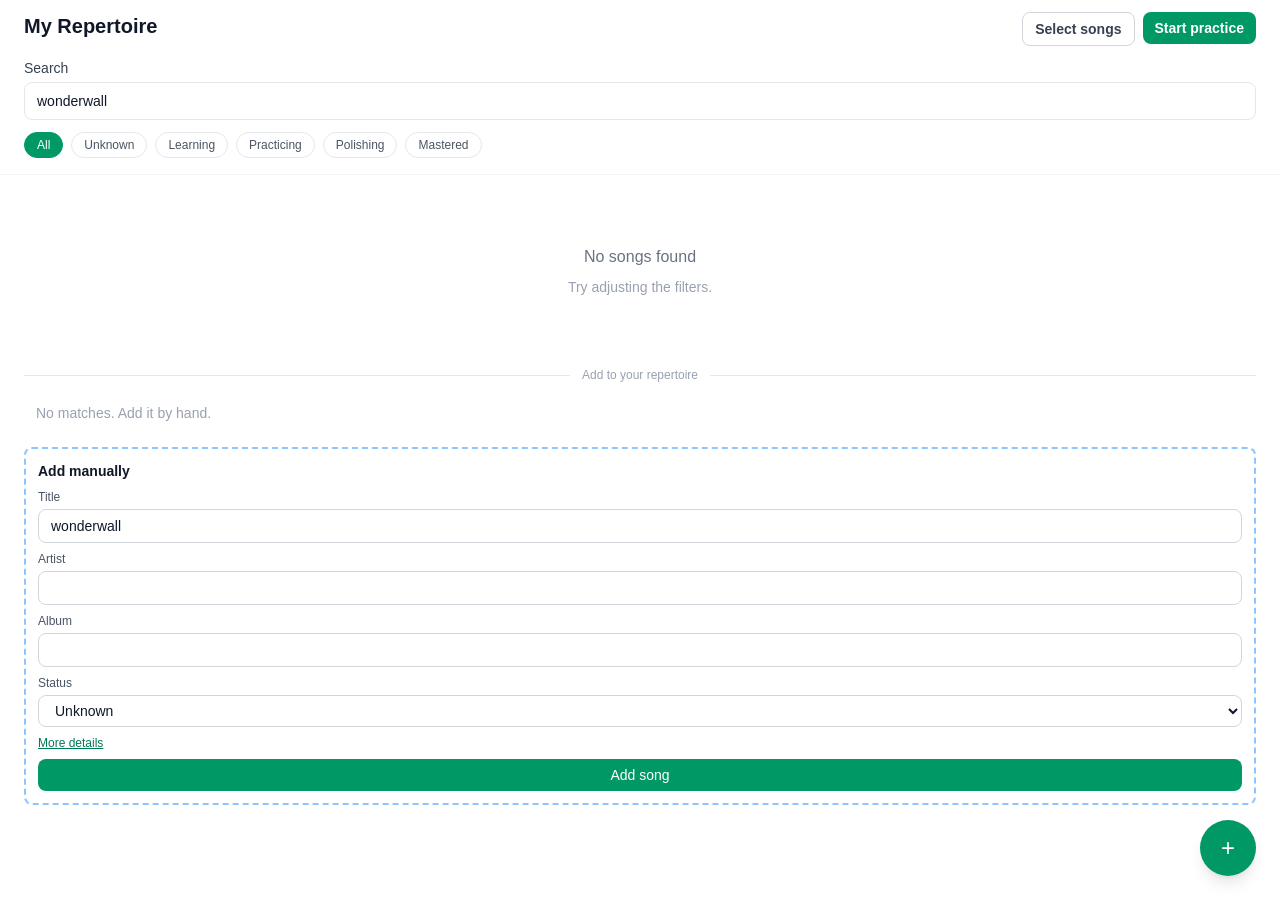
Scenario: manual entry panel (RH-152) › shows a failed add inline once
The width and height of the screenshot is (1280, 900).
Type "Oasis" into the field labelled "Artist" at (640, 588), box [38,571,1242,605]
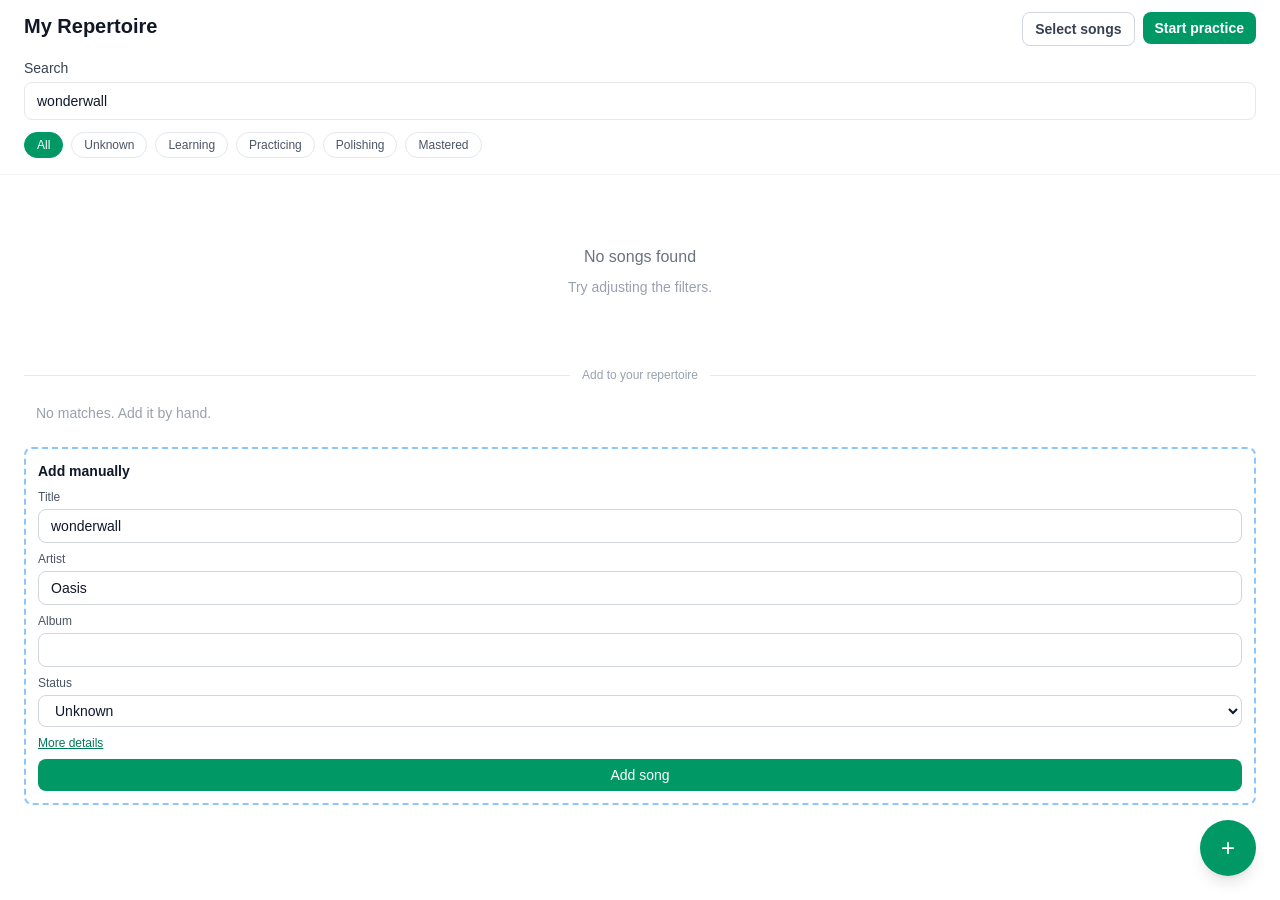
Click the button "Add song" at (640, 775), box [38,759,1242,791]
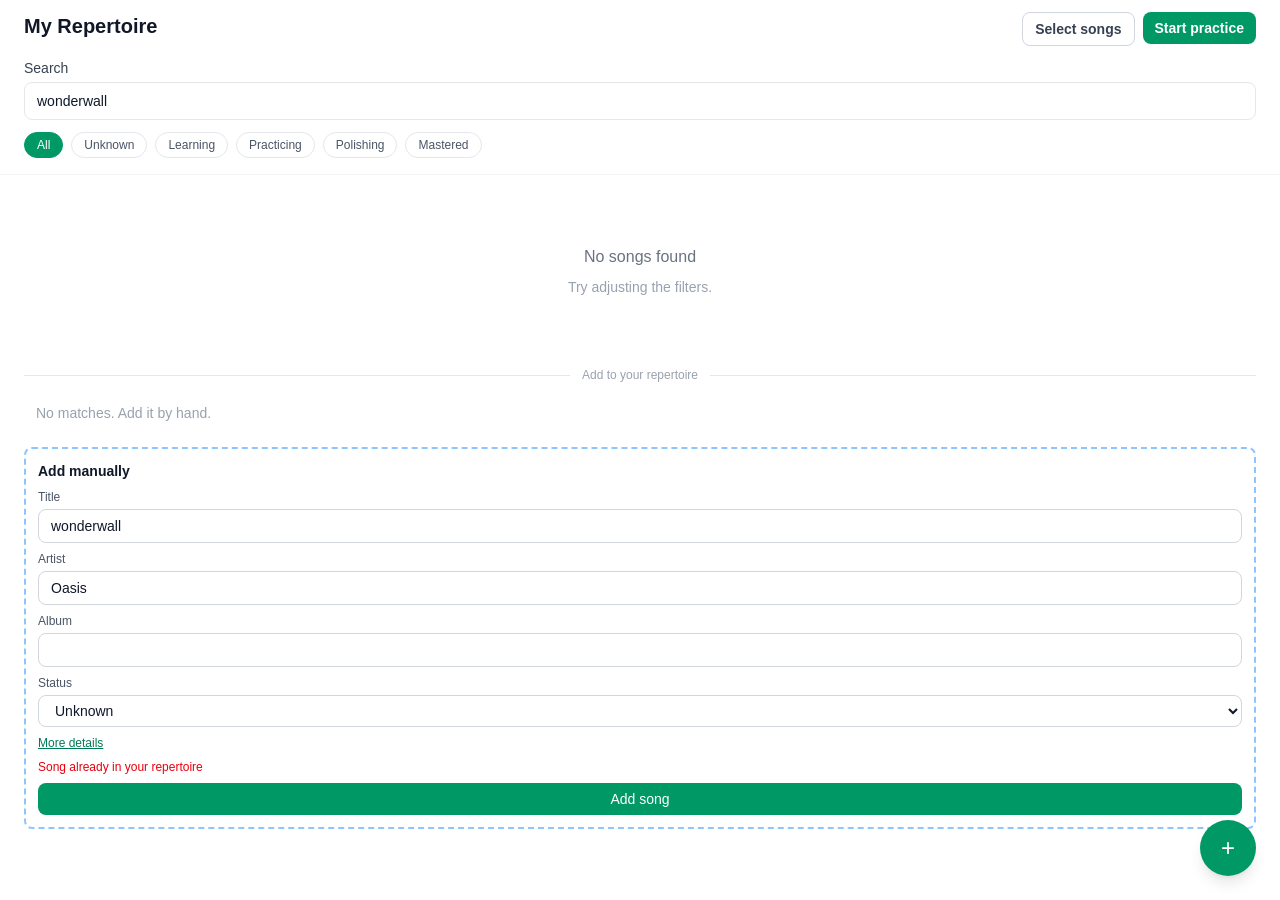
Check: the text "Song already in your repertoire" is shown once, box [38,760,203,774]
